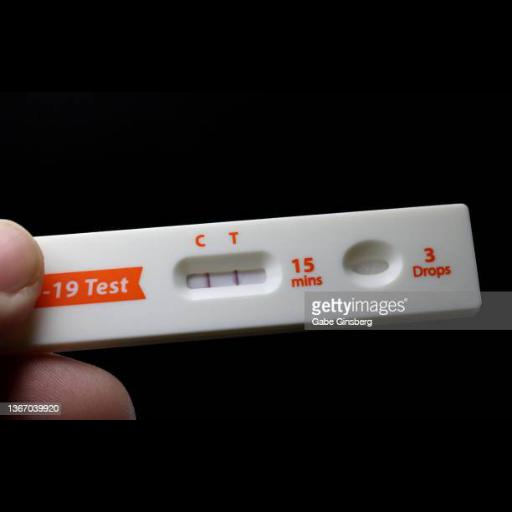Pos: (31, 203, 483, 344)
